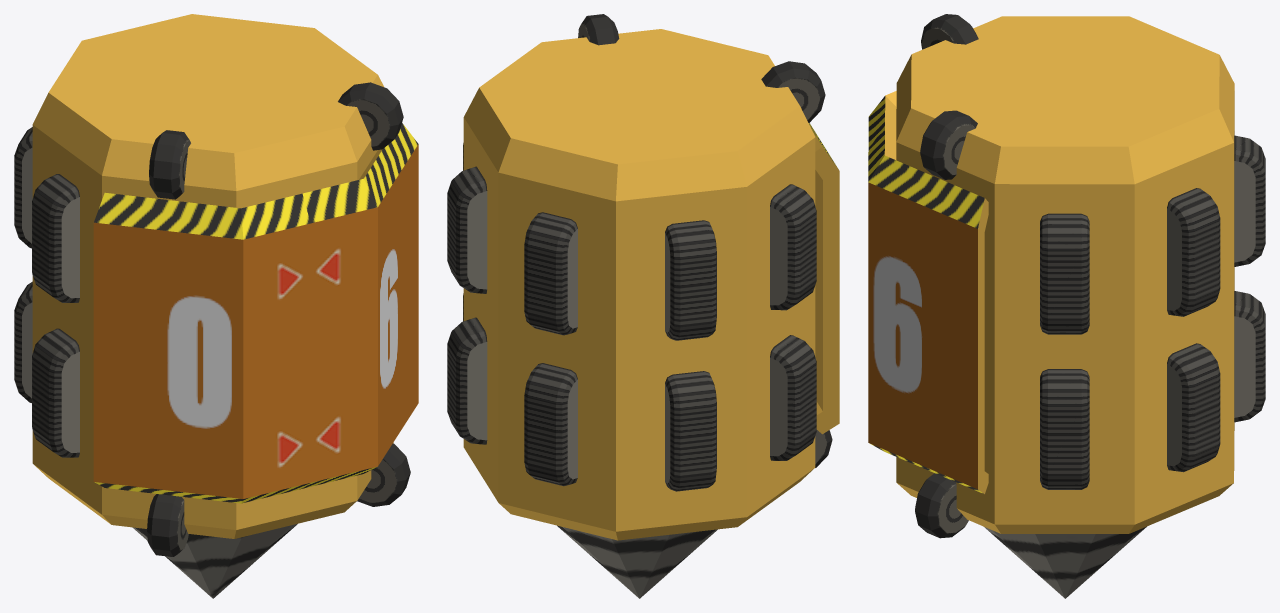
The model's file is driller.gltf.
3 views of the same model, side by side, from view 1: azimuth 30°, elevation 25°; view 2: azimuth 150°, elevation 25°; view 3: azimuth 270°, elevation 25° (orthographic). The views are drawn at different scales.
Visible parts, largest first — view 1: body.001, doorL.001, doorR.001, track1_2.001, track1_1.001, drill.001, wheel2.001, wheel1.001, wheel3.001, wheel4.001, track2_1.001, track2_2.001; view 2: body.001, doorL.001, track3_1.001, track3_2.001, track2_1.001, track2_2.001, track1_1.001, track1_2.001, drill.001, track4_2.001, track4_1.001, wheel1.001 (+1 smaller); view 3: body.001, doorR.001, track4_2.001, track4_1.001, track5_1.001, track5_2.001, drill.001, track3_2.001, track3_1.001, wheel2.001, wheel4.001, wheel1.001 (+1 smaller).
Boxes of the visible parts, left/top/right/bottom form: body.001: left=32, top=14, right=393, bottom=538; doorL.001: left=93, top=192, right=310, bottom=503; doorR.001: left=302, top=123, right=418, bottom=488; track1_2.001: left=32, top=328, right=79, bottom=457; track1_1.001: left=32, top=174, right=79, bottom=302; drill.001: left=132, top=523, right=297, bottom=598; wheel2.001: left=338, top=82, right=403, bottom=150; wheel1.001: left=149, top=130, right=190, bottom=199; wheel3.001: left=147, top=494, right=188, bottom=556; wheel4.001: left=357, top=443, right=410, bottom=506; track2_1.001: left=14, top=127, right=32, bottom=248; track2_2.001: left=14, top=281, right=32, bottom=402; body.001: left=463, top=29, right=815, bottom=540; doorL.001: left=808, top=123, right=839, bottom=434; track3_1.001: left=524, top=212, right=577, bottom=335; track3_2.001: left=524, top=363, right=577, bottom=486; track2_1.001: left=665, top=220, right=716, bottom=340; track2_2.001: left=665, top=371, right=716, bottom=491; track1_1.001: left=770, top=184, right=816, bottom=310; track1_2.001: left=770, top=335, right=816, bottom=460; drill.001: left=557, top=525, right=717, bottom=598; track4_2.001: left=447, top=317, right=487, bottom=444; track4_1.001: left=447, top=166, right=487, bottom=293; wheel1.001: left=761, top=61, right=825, bottom=122; body.001: left=896, top=16, right=1234, bottom=533; doorR.001: left=868, top=126, right=988, bottom=494; track4_2.001: left=1167, top=343, right=1220, bottom=472; track4_1.001: left=1167, top=188, right=1220, bottom=316; track5_1.001: left=1040, top=213, right=1089, bottom=334; track5_2.001: left=1040, top=369, right=1089, bottom=489; drill.001: left=984, top=526, right=1146, bottom=598; track3_2.001: left=1234, top=291, right=1265, bottom=422; track3_1.001: left=1234, top=135, right=1265, bottom=266; wheel2.001: left=920, top=110, right=977, bottom=179; wheel4.001: left=915, top=473, right=968, bottom=538; wheel1.001: left=921, top=14, right=978, bottom=49.
Size of the model in its own units: 2.19 by 3.22 by 2.17.
2 materials, 2 textured.
